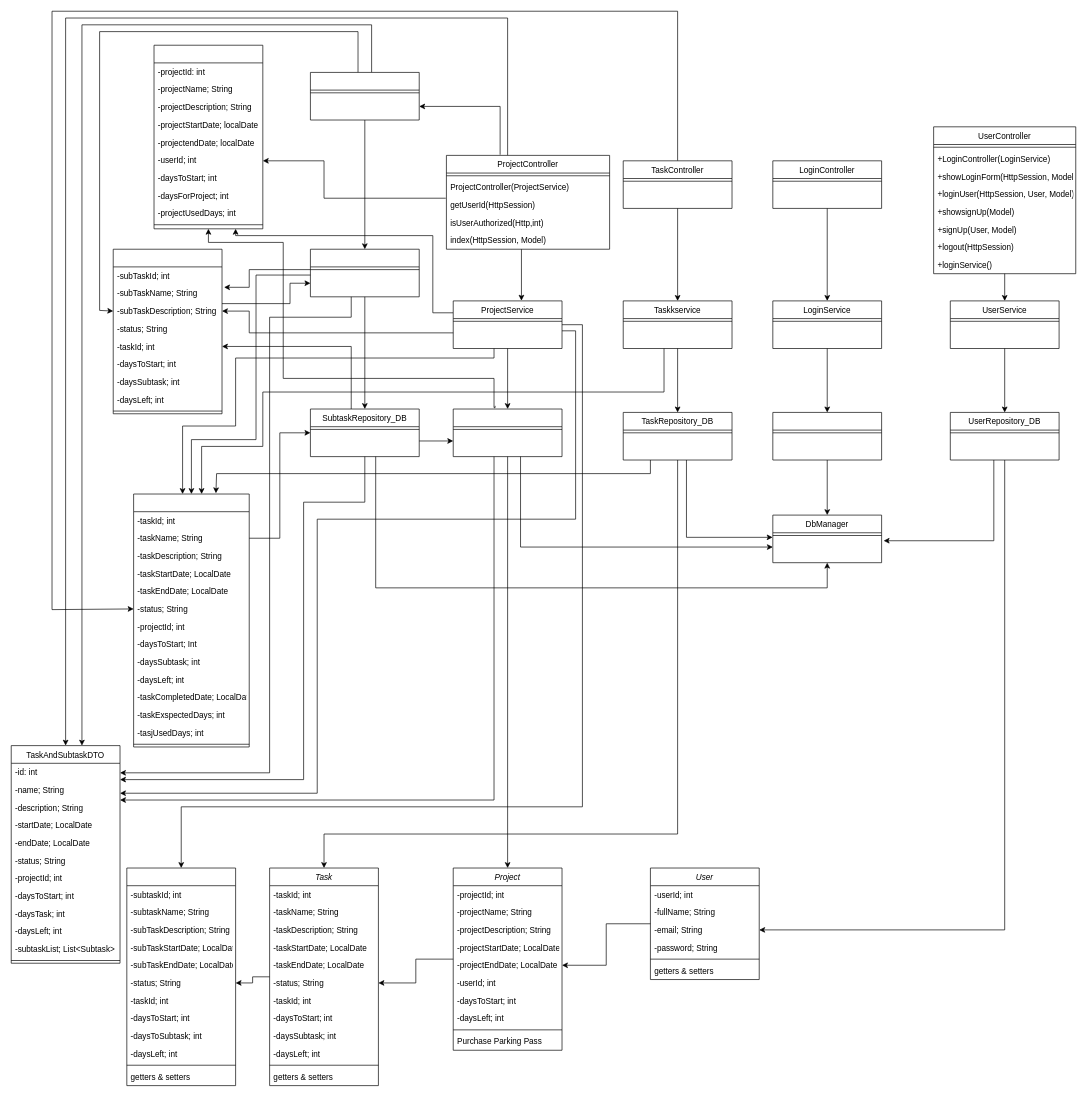
Some shapes in this 1087 by 1097 pixel diagram are drawn without their labels. The box of each missing label's shape, as (x1, y1, x2, y2) in pixels:
DoneProjectDTO: (153, 45, 263, 229)
DoneSubtaskDTO: (113, 249, 222, 414)
DoneTaskDTO: (133, 493, 249, 747)
LoginRepository_DB: (772, 412, 882, 460)
ProjectRepository_DB: (453, 408, 562, 457)
SubtaskController: (310, 72, 419, 120)
SubtaskService: (310, 249, 419, 297)
Subtassk: (126, 867, 236, 1086)
